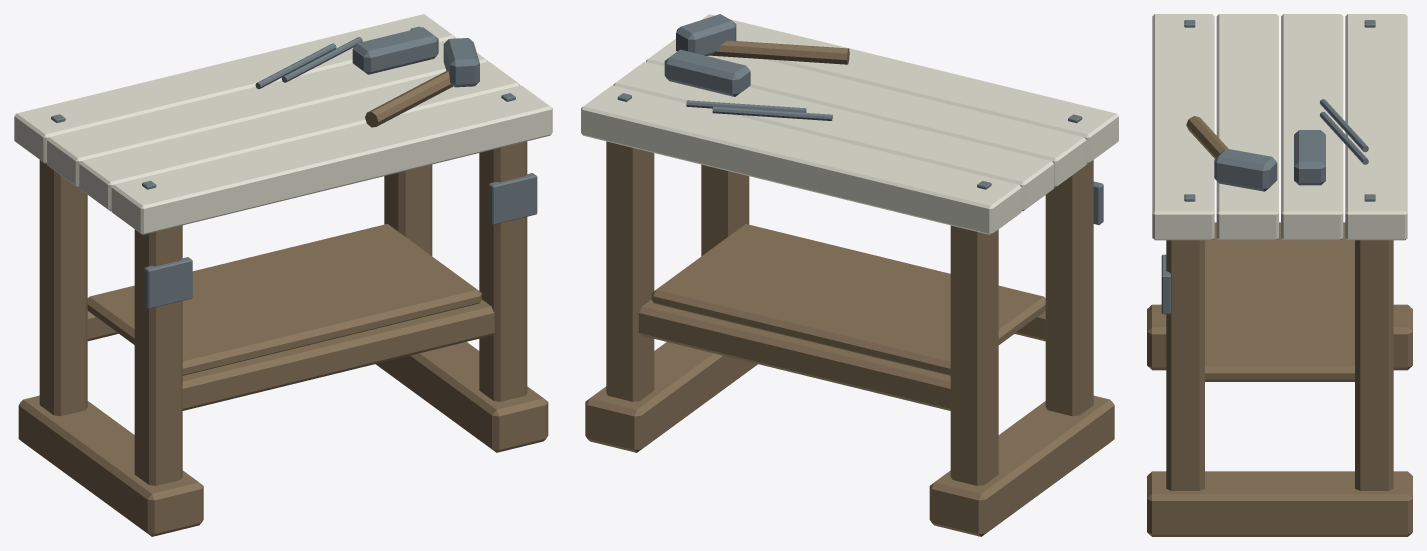
Rendered from shipforge.glb.
The picture shows the model from 3 angles, left to right: view 1: azimuth 30°, elevation 25°; view 2: azimuth 150°, elevation 25°; view 3: azimuth 270°, elevation 25°; orthographic projection.
Visible parts, largest first — view 1: Lower shelf, Worktop plank, Worktop plank.001, Worktop plank.002, Trestle foot, Trestle leg.001, Worktop plank.003, Cross member, Trestle leg, Trestle leg.002, Trestle foot.001, Trestle leg.003 (+7 smaller); view 2: Lower shelf, Worktop plank.003, Trestle leg.001, Worktop plank.002, Worktop plank.001, Trestle leg.003, Trestle foot, Trestle leg, Cross member.001, Worktop plank, Trestle foot.001, Trestle leg.002 (+5 smaller); view 3: Lower shelf, Trestle foot.001, Worktop plank.003, Worktop plank, Worktop plank.002, Worktop plank.001, Trestle leg.003, Trestle leg.002, Trestle foot, Mallet head, Metal billet, Mallet handle (+3 smaller).
Boxes of the visible parts, bbox=[...] form: Lower shelf: bbox=[87, 224, 481, 375]; Worktop plank: bbox=[111, 85, 552, 234]; Worktop plank.001: bbox=[79, 61, 519, 211]; Worktop plank.002: bbox=[47, 38, 487, 187]; Trestle foot: bbox=[18, 395, 203, 536]; Trestle leg.001: bbox=[39, 160, 87, 416]; Worktop plank.003: bbox=[14, 14, 455, 163]; Cross member: bbox=[182, 299, 494, 410]; Trestle leg: bbox=[134, 225, 182, 485]; Trestle leg.002: bbox=[479, 141, 527, 401]; Trestle foot.001: bbox=[375, 342, 548, 452]; Trestle leg.003: bbox=[384, 164, 432, 255]; Lower shelf: bbox=[651, 224, 1045, 375]; Worktop plank.003: bbox=[581, 85, 1021, 234]; Trestle leg.001: bbox=[950, 225, 998, 485]; Worktop plank.002: bbox=[613, 61, 1053, 211]; Worktop plank.001: bbox=[646, 39, 1086, 187]; Trestle leg.003: bbox=[606, 141, 654, 401]; Trestle foot: bbox=[929, 395, 1114, 536]; Trestle leg: bbox=[1045, 160, 1093, 416]; Cross member.001: bbox=[638, 299, 950, 410]; Worktop plank: bbox=[702, 14, 1118, 163]; Trestle foot.001: bbox=[585, 342, 757, 452]; Trestle leg.002: bbox=[701, 164, 749, 256]; Lower shelf: bbox=[1205, 222, 1354, 381]; Trestle foot.001: bbox=[1147, 471, 1412, 536]; Worktop plank.003: bbox=[1345, 14, 1407, 240]; Worktop plank: bbox=[1152, 14, 1214, 240]; Worktop plank.002: bbox=[1281, 14, 1343, 240]; Worktop plank.001: bbox=[1216, 14, 1278, 240]; Trestle leg.003: bbox=[1355, 240, 1393, 490]; Trestle leg.002: bbox=[1166, 240, 1204, 490]; Trestle foot: bbox=[1147, 304, 1412, 370]; Mallet head: bbox=[1214, 148, 1277, 191]; Metal billet: bbox=[1294, 130, 1325, 185]; Mallet handle: bbox=[1186, 116, 1228, 158].
Size of the model in its own units: 1.1 by 0.935 by 0.62.
